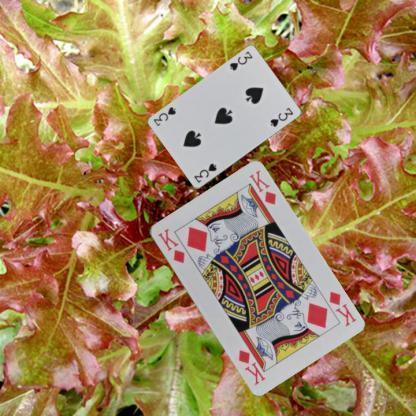3s: (227, 48, 254, 73), (191, 161, 218, 184)
Kd: (317, 288, 358, 328), (155, 225, 186, 265)
